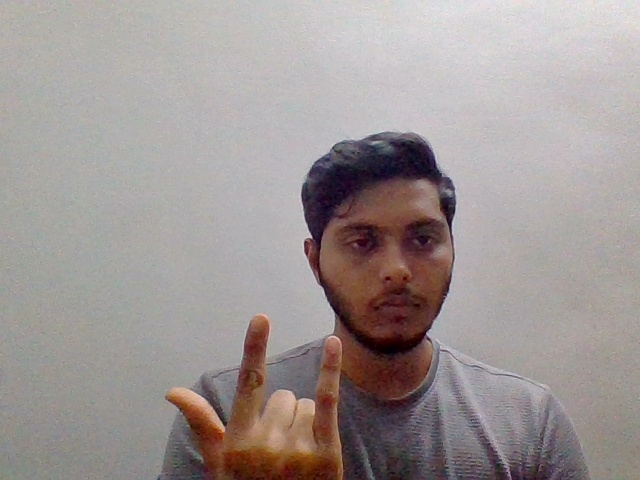I Love You: (160, 308, 360, 480)
